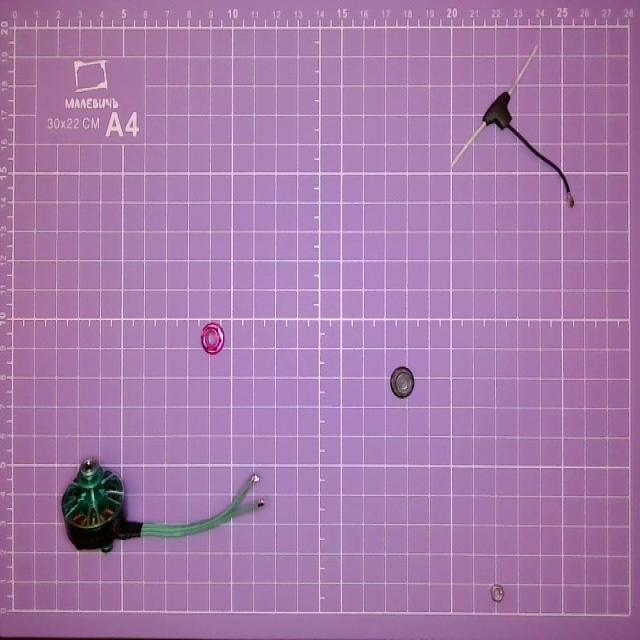antenna: (447, 43, 579, 208)
motor: (61, 458, 269, 556)
screw_M3: (488, 578, 507, 606)
screw_M5: (389, 361, 422, 404), (198, 321, 230, 361)
